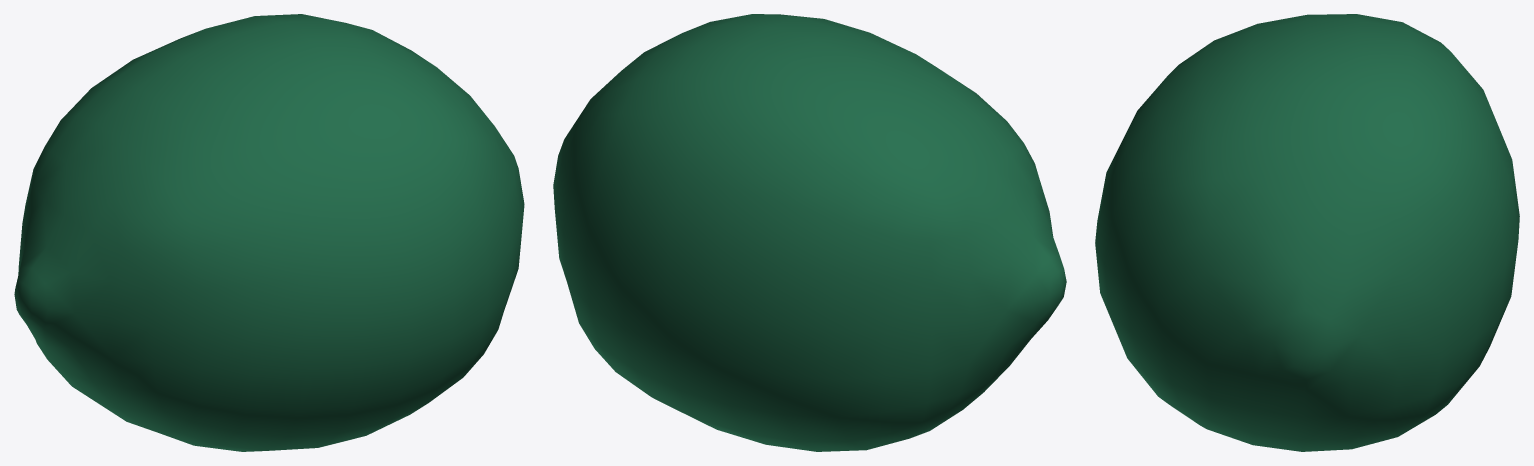
Rendered from Lime_02.dae.
The picture shows the model from 3 angles, left to right: view 1: azimuth 30°, elevation 25°; view 2: azimuth 150°, elevation 25°; view 3: azimuth 270°, elevation 25°; orthographic projection.
Visible parts, largest first — view 1: Lime_02_LOD0; view 2: Lime_02_LOD0; view 3: Lime_02_LOD0.
Part boxes in pixels (bbox=[...]): Lime_02_LOD0: bbox=[14, 14, 524, 451]; Lime_02_LOD0: bbox=[553, 14, 1066, 451]; Lime_02_LOD0: bbox=[1095, 14, 1519, 451].
Size of what is drawn, in the model's own units: 3.39 by 2.53 by 2.52.
